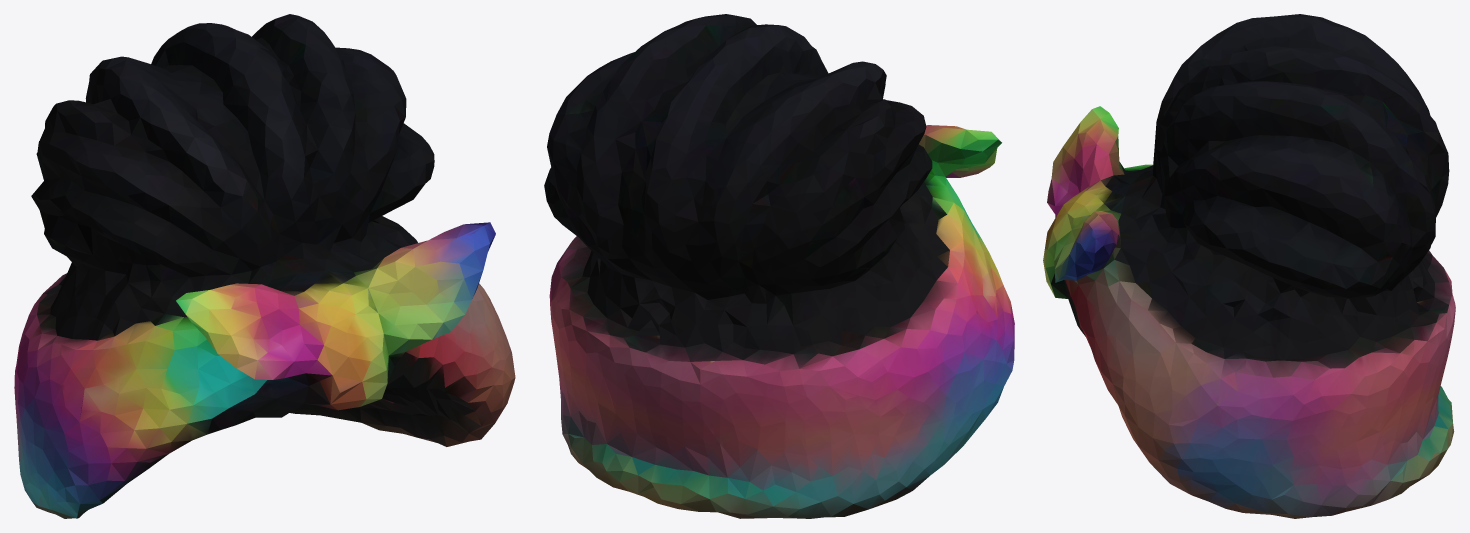
The model's file is hairstyle_016.glb.
3 views of the same model, side by side, from view 1: azimuth 30°, elevation 25°; view 2: azimuth 150°, elevation 25°; view 3: azimuth 270°, elevation 25° (orthographic). The views are drawn at different scales.
Parts seen in each view (by area): view 1: geometry_0_016; view 2: geometry_0_016; view 3: geometry_0_016.
Boxes of the visible parts, box(x1,y1,x2,y2) form: geometry_0_016: box(14, 14, 515, 518); geometry_0_016: box(544, 14, 1014, 518); geometry_0_016: box(1043, 14, 1455, 518).
Bounding box in the file's own units: 1.09 × 1.05 × 0.9808.
Materials: 1 (1 with a texture image).
